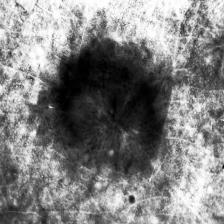Benign Marking or Mole: (51, 52, 164, 166)
